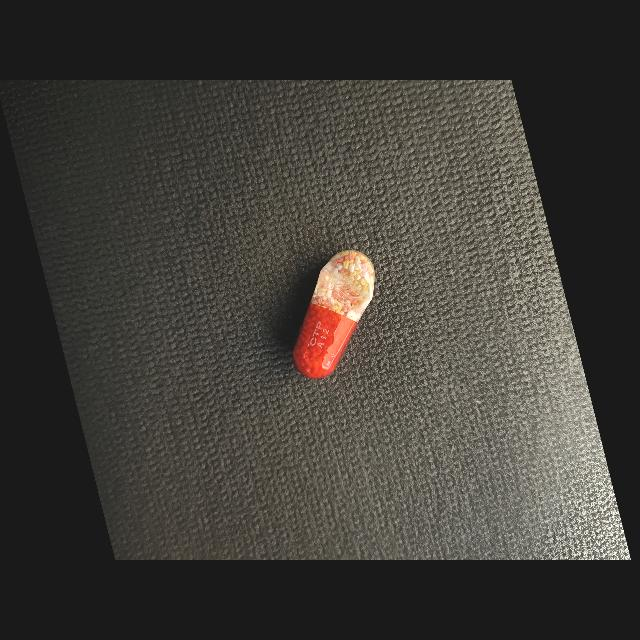Defective Capsule: (293, 250, 375, 379)
